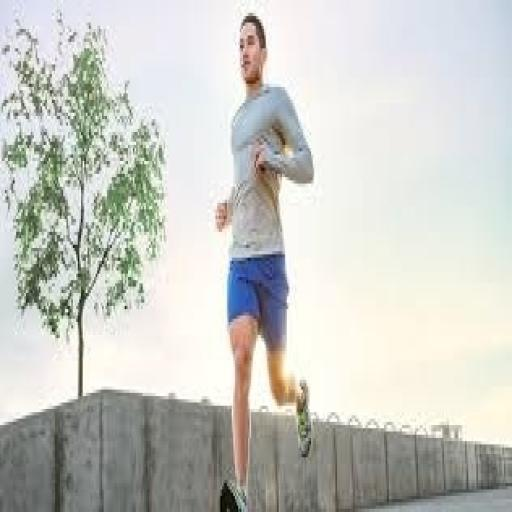running: (212, 10, 316, 508)
